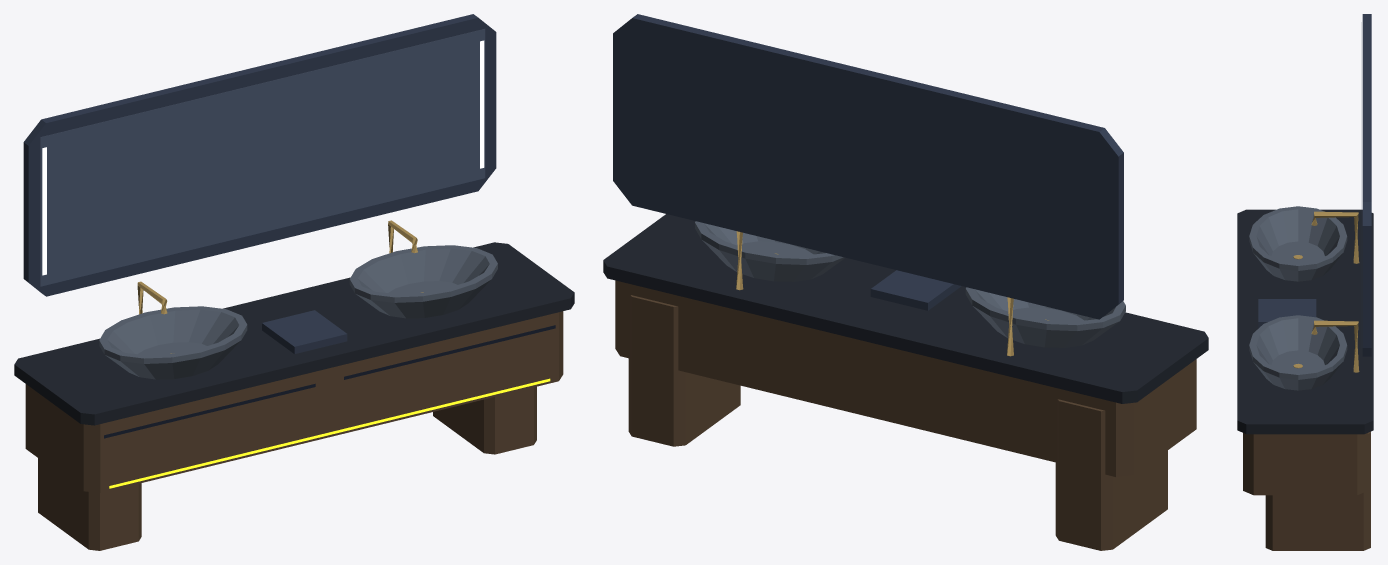
File: res_marble_vanity.glb
3 views of the same model, side by side, from view 1: azimuth 30°, elevation 25°; view 2: azimuth 150°, elevation 25°; view 3: azimuth 270°, elevation 25° (orthographic). The views are drawn at different scales.
Visible parts, largest first — view 1: mirror_surface, mirror_glaze, floating_vanity, marble_counter, mirror_back, carved_basin, folded_hand_towel, drawer_recess, vanity_underglow, mirror_light, basin_drain; view 2: mirror_back, floating_vanity, marble_counter, carved_basin, folded_hand_towel; view 3: marble_counter, floating_vanity, carved_basin, mirror_back, folded_hand_towel, basin_drain.
Part boxes in pixels (x1,y1,x2,y2): mirror_surface: (40, 29, 485, 286); mirror_glaze: (41, 29, 485, 286); floating_vanity: (25, 311, 563, 550); marble_counter: (14, 242, 574, 425); mirror_back: (23, 14, 496, 296); carved_basin: (99, 245, 497, 379); folded_hand_towel: (262, 310, 347, 354); drawer_recess: (104, 325, 555, 438); vanity_underglow: (109, 378, 550, 488); mirror_light: (42, 40, 484, 275); basin_drain: (137, 220, 423, 353); mirror_back: (613, 14, 1123, 319); floating_vanity: (615, 280, 1196, 550); marble_counter: (603, 214, 1208, 403); carved_basin: (695, 221, 1125, 347); folded_hand_towel: (870, 270, 961, 310); marble_counter: (1237, 209, 1373, 434); floating_vanity: (1243, 431, 1370, 550); carved_basin: (1249, 206, 1347, 390); mirror_back: (1362, 14, 1371, 356); folded_hand_towel: (1258, 299, 1316, 328); basin_drain: (1293, 211, 1359, 372).
Bounding box in the file's own units: 2.8 × 2.1 × 0.75.
